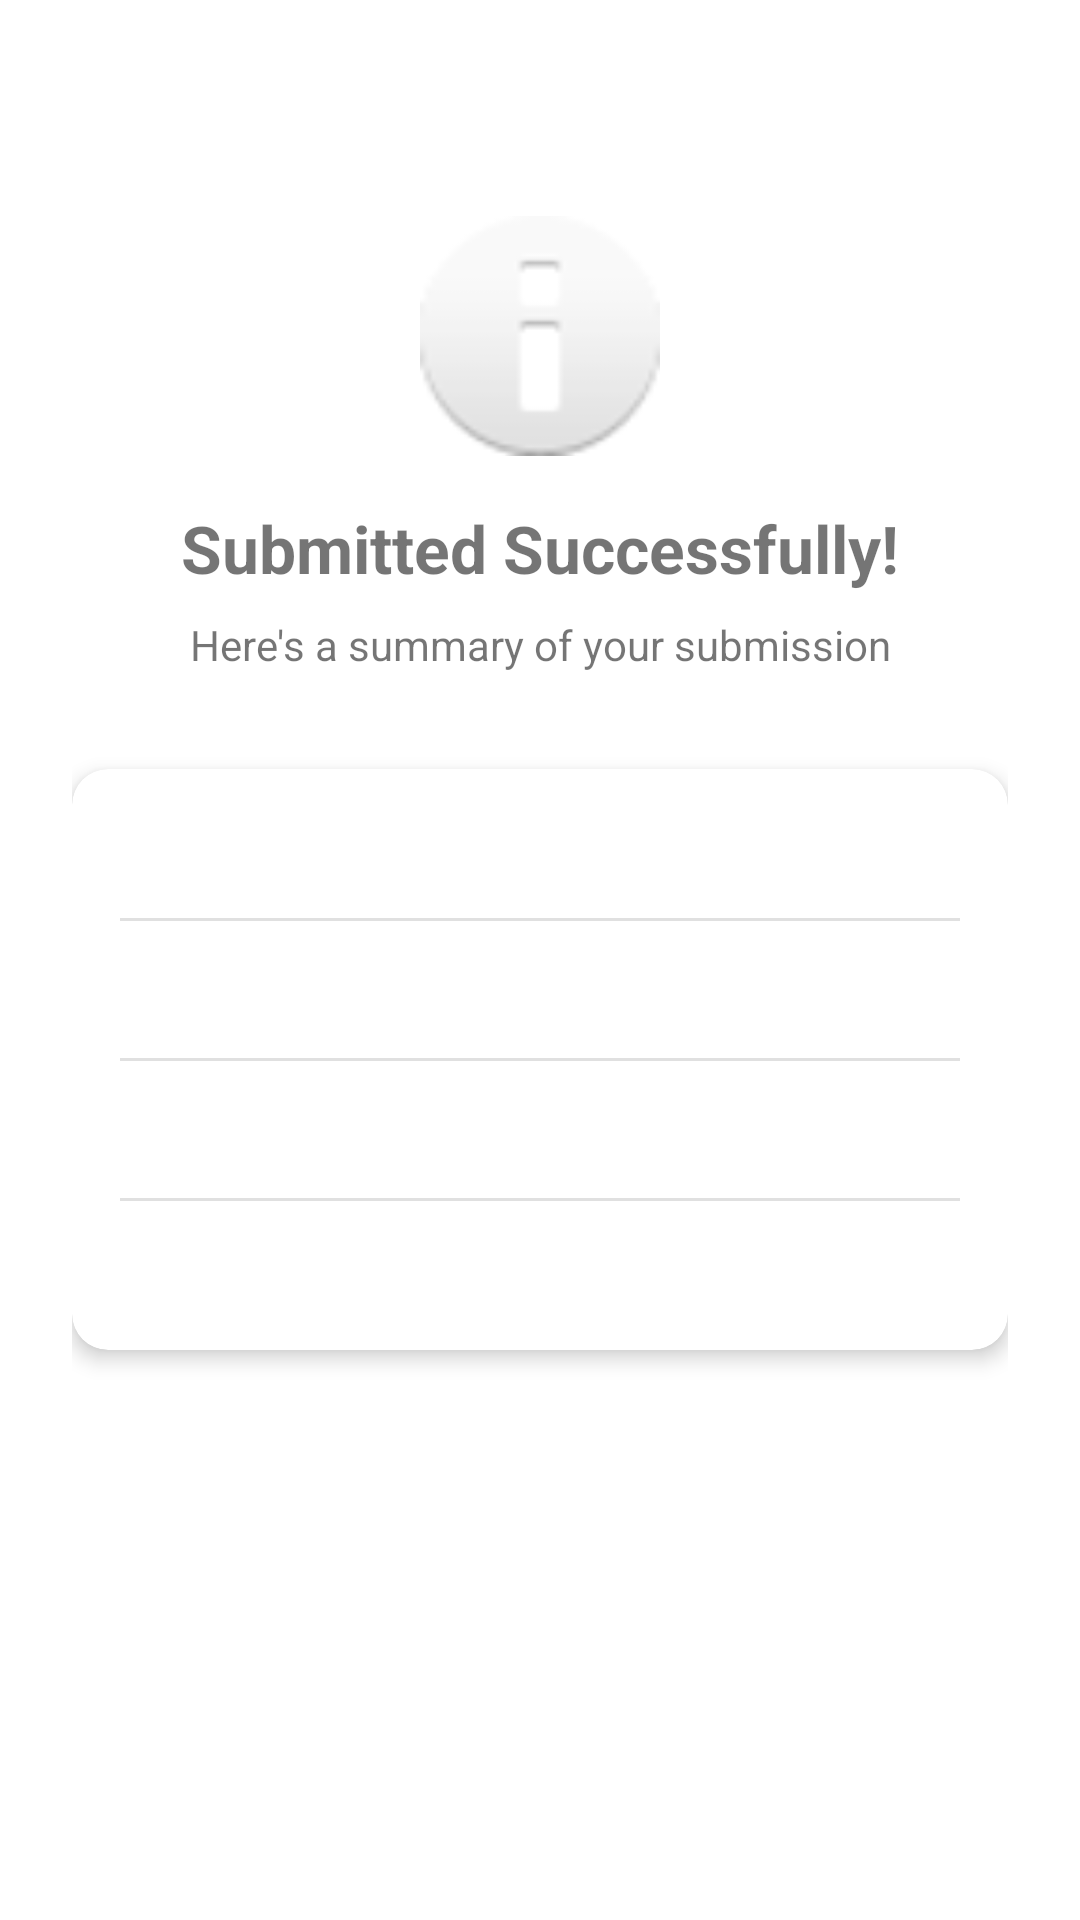

Screen size 1080x1920. Icon name, then its center in pixels as [x,y]:
info: [540,358]
